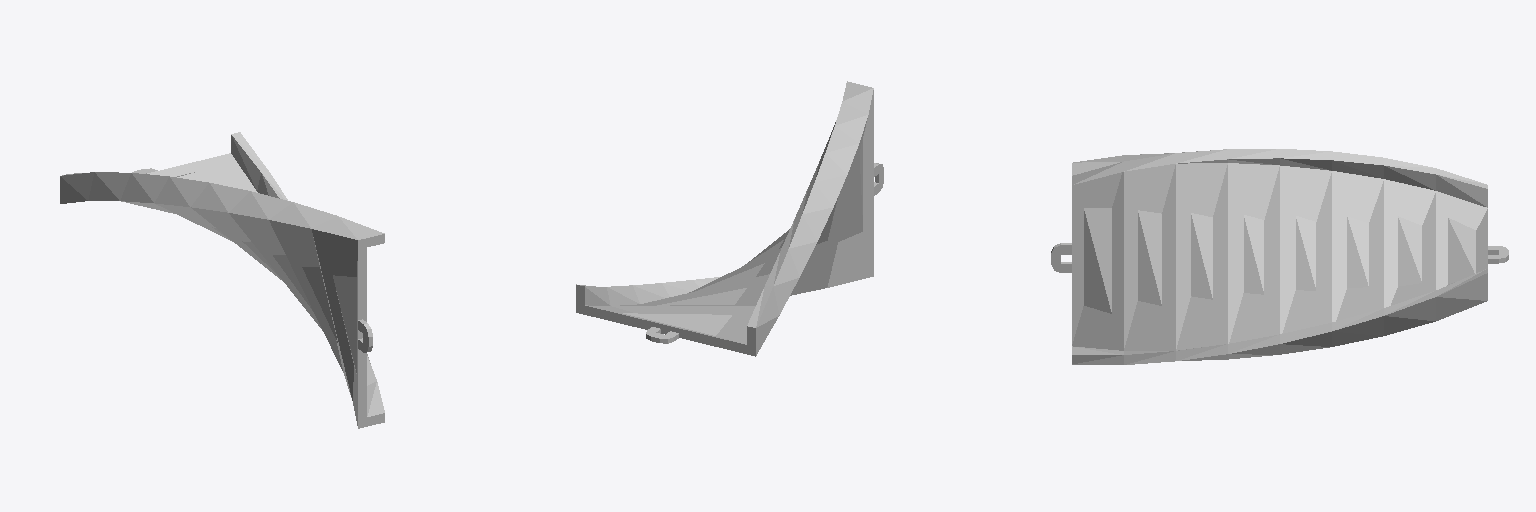
The model's file is track-wide-straight-skew-left-side.obj.
3 views of the same model, side by side, from view 1: azimuth 30°, elevation 25°; view 2: azimuth 150°, elevation 25°; view 3: azimuth 270°, elevation 25° (orthographic).
Visible parts, largest first — view 1: track-wide-straight-skew-left-side; view 2: track-wide-straight-skew-left-side; view 3: track-wide-straight-skew-left-side.
Boxes of the visible parts, <box> form: track-wide-straight-skew-left-side: <box>60,132,384,428</box>; track-wide-straight-skew-left-side: <box>576,81,883,356</box>; track-wide-straight-skew-left-side: <box>1051,149,1508,364</box>.
Size of the model in its own units: 2.04 by 2.04 by 4.4.